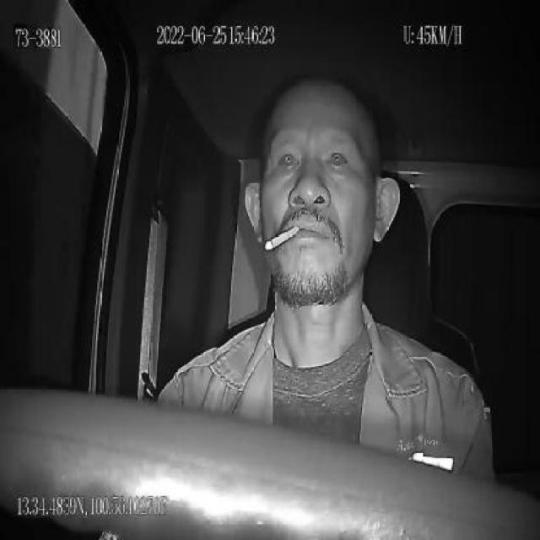smoking: (265, 226, 301, 252)
